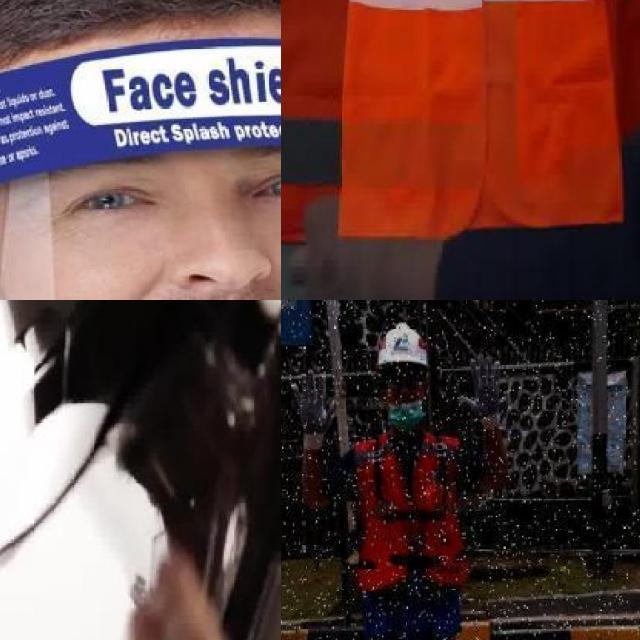apron: (292, 368, 336, 453), (458, 352, 501, 432)
